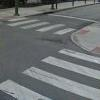Crosswalk: (4, 42, 99, 100)
